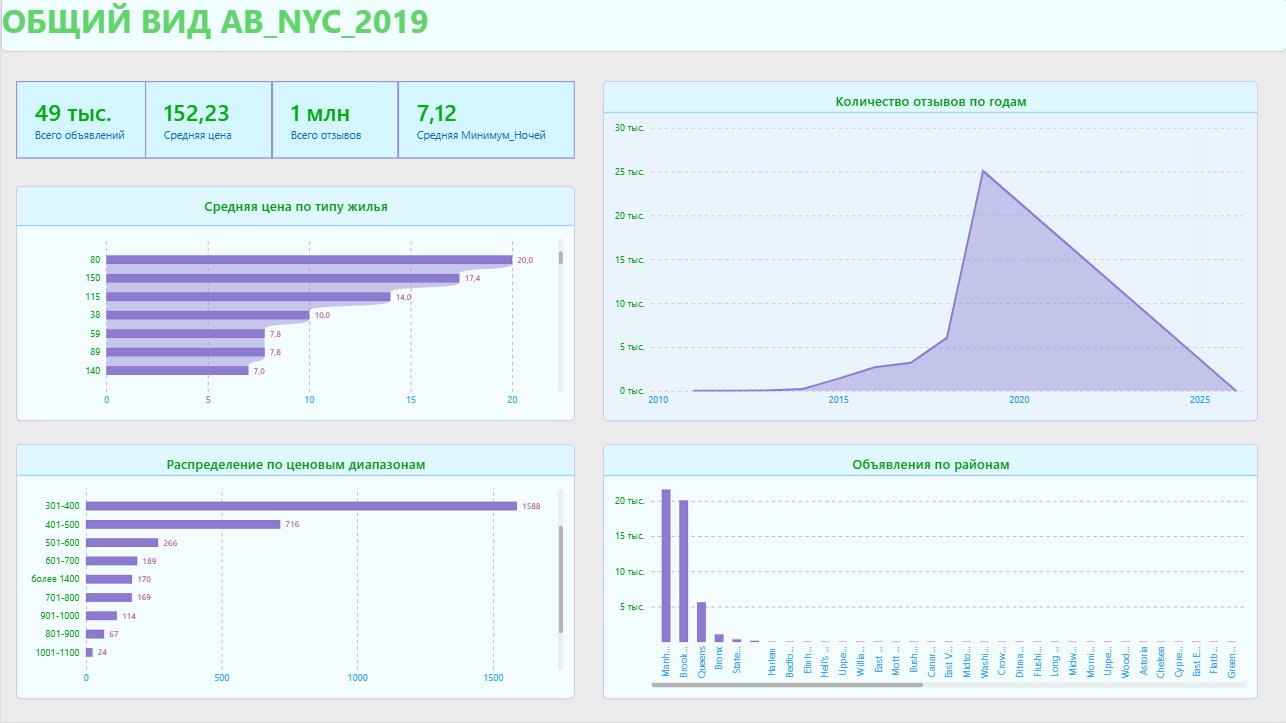

The dashboard page shown, as its layout file describes it:
{"tool":"powerbi","page":{"name":"Страница 1","canvas":[1920,1080],"ordinal":0},"visuals":[{"type":"textbox","box":[0,0,1920,80],"z":0},{"type":"barChart","title":"Распределение по ценовым диапазонам","fields":{"Category":["nyc.Диапазон"],"Y":["nyc.Количество"]},"box":[22.9,665.7,834.3,381.4],"z":1000},{"type":"cardVisual","fields":{"Data":["nyc.Total Listings"]},"box":[22.9,124.3,200,115.7],"z":1001},{"type":"cardVisual","fields":{"Data":["nyc.Avg Price"]},"box":[214.3,124.3,190,115.7],"z":1002},{"type":"cardVisual","fields":{"Data":["nyc.Всего отзывов"]},"box":[404.3,124.3,188.6,115.7],"z":1003},{"type":"cardVisual","fields":{"Data":["nyc.Средняя Минимум_Ночей"]},"box":[592.9,124.3,264.3,115.7],"z":1004},{"type":"lineClusteredColumnComboChart","title":"Объявления по районам","fields":{"Category":["nyc.neighbourhood_group"],"Y":["nyc.Total Listings"]},"box":[898.8,665.9,977.9,380.7],"z":1005},{"type":"stackedAreaChart","title":"Количество отзывов по годам","fields":{"Category":["nyc.Год"],"Y":["nyc.Total Listings"]},"box":[898.8,123.9,977.9,507.6],"z":1006},{"type":"barChart","title":"Средняя цена по типу жилья","fields":{"Y":["nyc.Avg Price"],"Category":["nyc.room_type"]},"box":[22.9,280,834.3,351.4],"z":1007}]}

Visuals, with their boxes in screenshot pixels (x1, y1, x2, y2), scaled from the page's 1920x1080 canvas onto the 1286x723 screenshot:
textbox: x1=0 y1=0 x2=1285 y2=54
"Распределение по ценовым диапазонам" barChart: x1=15 y1=446 x2=574 y2=701
cardVisual - nyc.Total Listings: x1=15 y1=83 x2=149 y2=161
cardVisual - nyc.Avg Price: x1=144 y1=83 x2=271 y2=161
cardVisual - nyc.Всего отзывов: x1=271 y1=83 x2=397 y2=161
cardVisual - nyc.Средняя Минимум_Ночей: x1=397 y1=83 x2=574 y2=161
"Объявления по районам" lineClusteredColumnComboChart: x1=602 y1=446 x2=1257 y2=701
"Количество отзывов по годам" stackedAreaChart: x1=602 y1=83 x2=1257 y2=423
"Средняя цена по типу жилья" barChart: x1=15 y1=187 x2=574 y2=423
